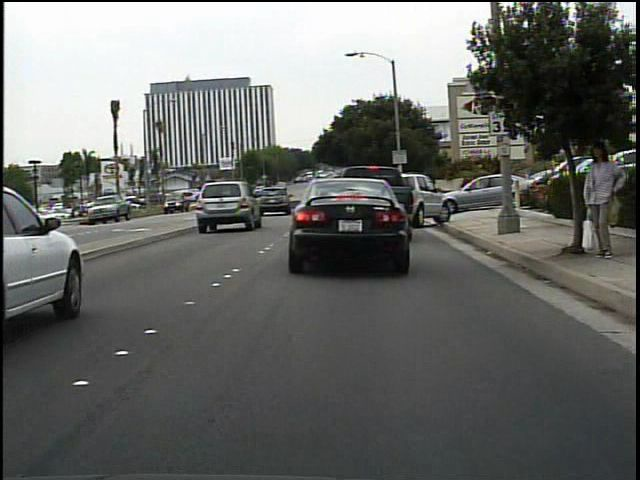person: (579, 137, 625, 261)
